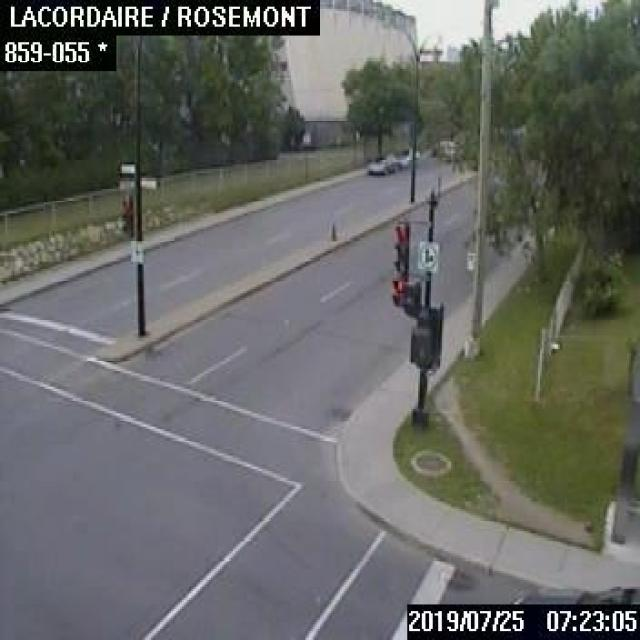vehicle: (366, 156, 392, 172), (390, 152, 406, 166)
